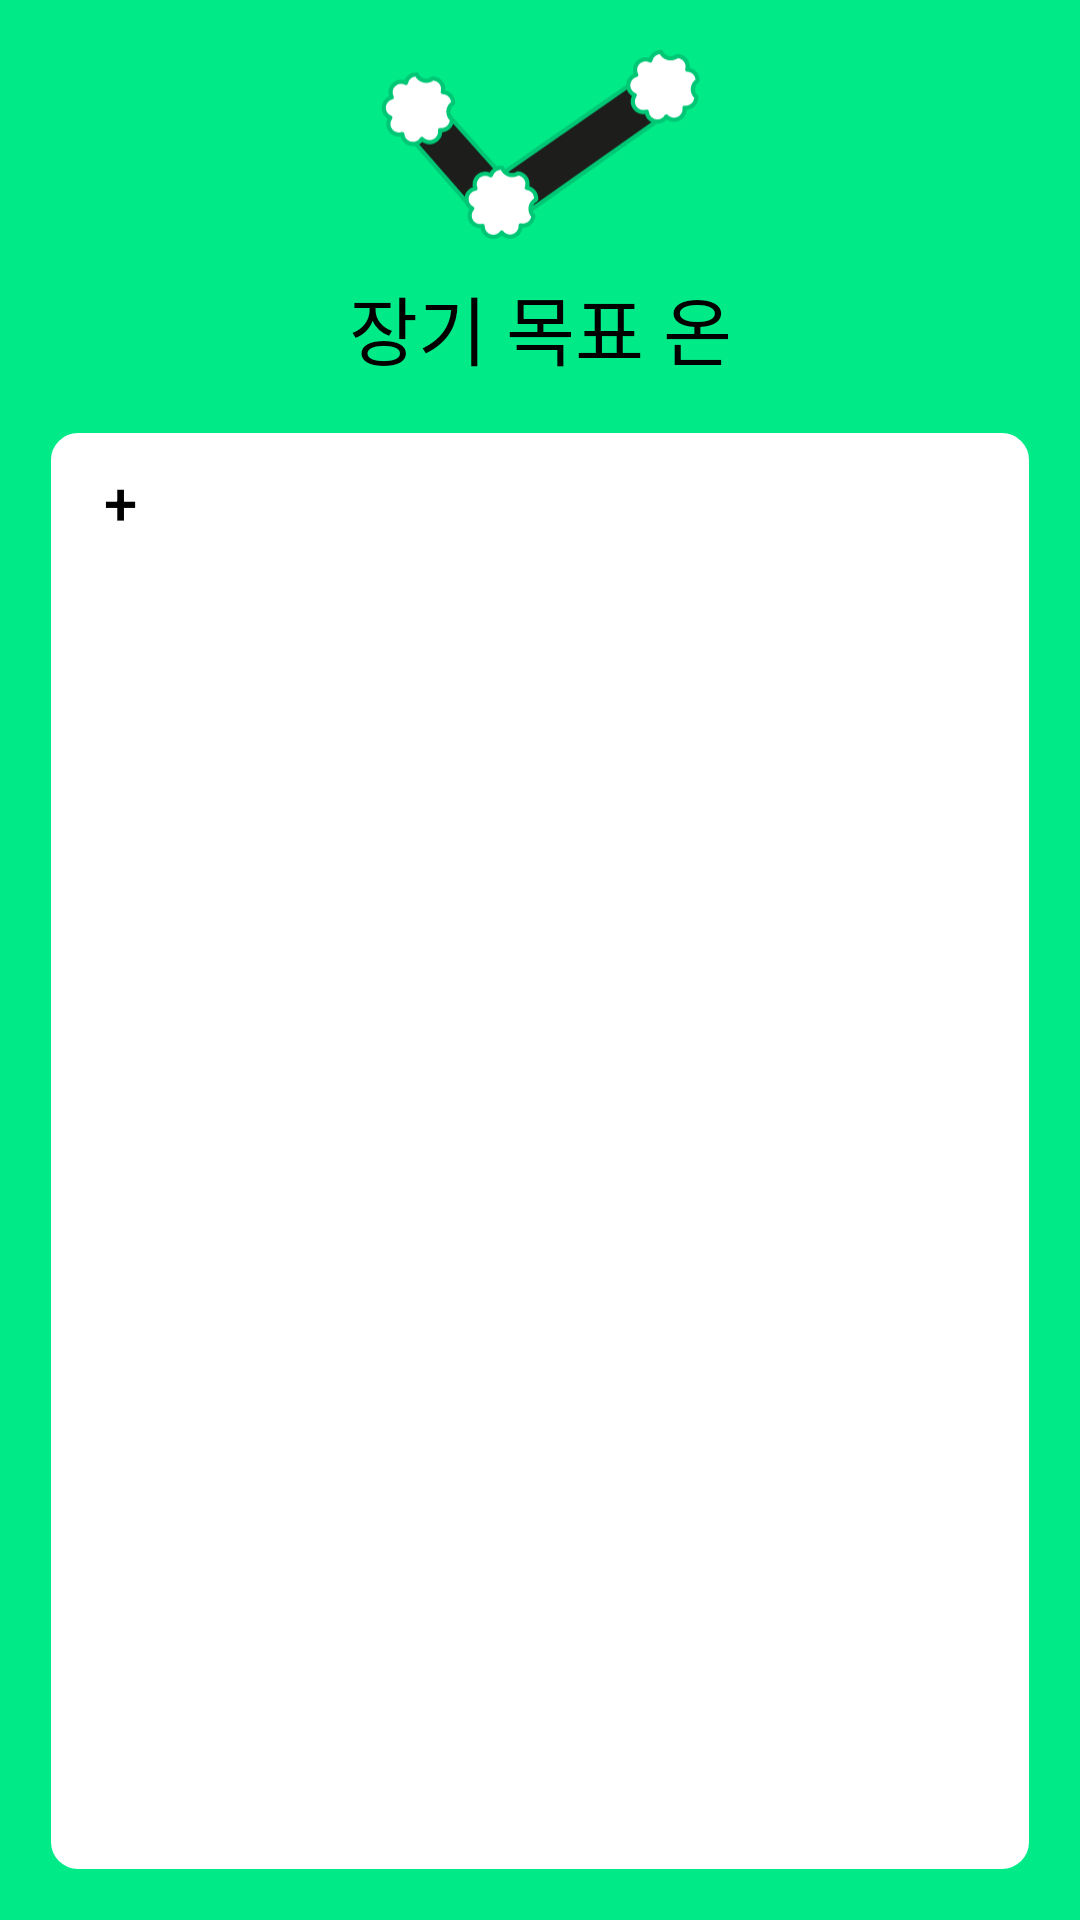

Icons on this 1080px x 1920px Android screen, each with the point to tap as (x=x, y=y):
check: (x=540, y=144)
